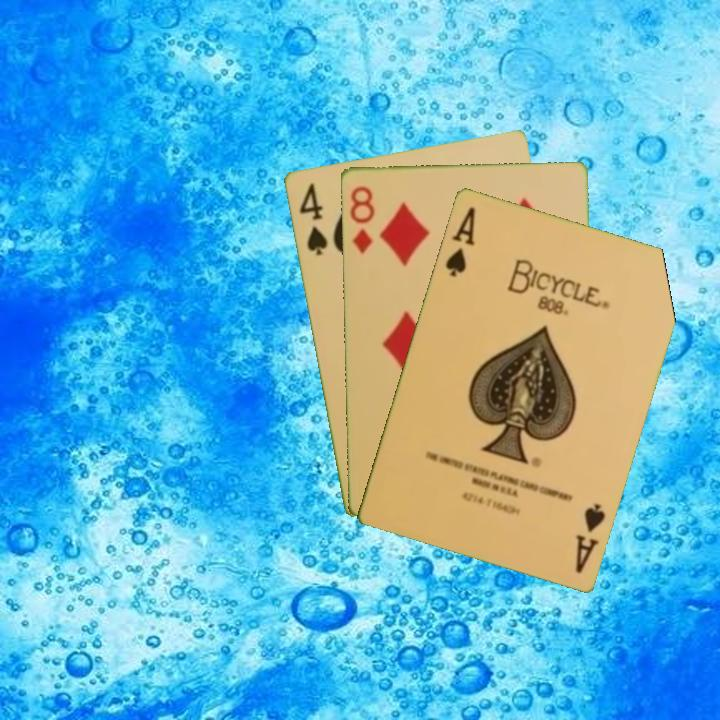4s: (295, 179, 330, 258)
8d: (346, 182, 377, 256)
As: (571, 499, 608, 576), (441, 203, 478, 279)
